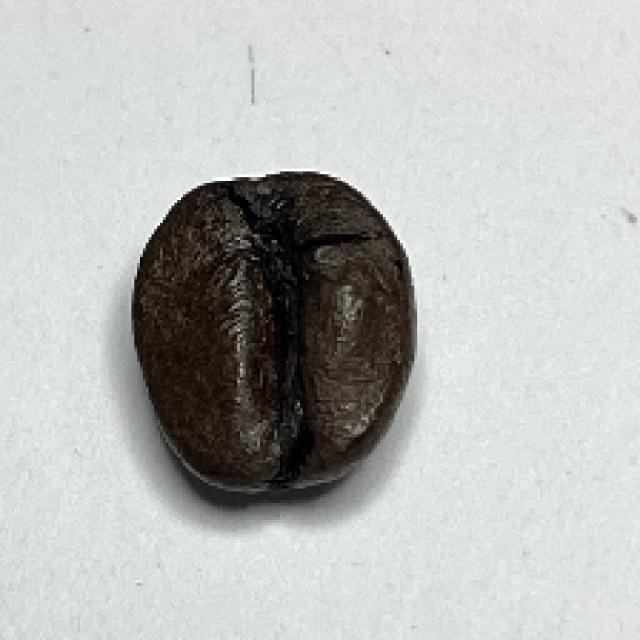bean: (125, 168, 420, 499)
